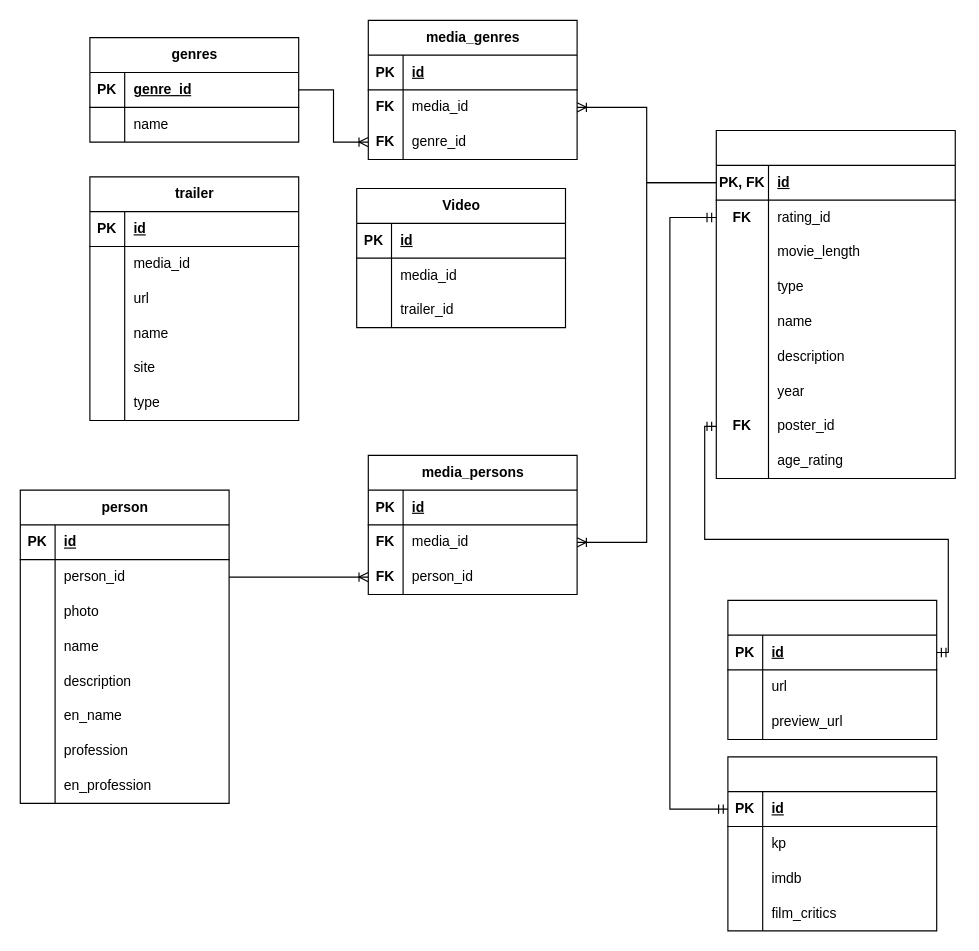
This 979x951 diagram has some shape labels left out. Here are the shapes that lost their labels. From the top down, the box of each, then its label:
(715, 129, 955, 478): media
(727, 599, 937, 740): poster
(727, 756, 937, 931): rating
